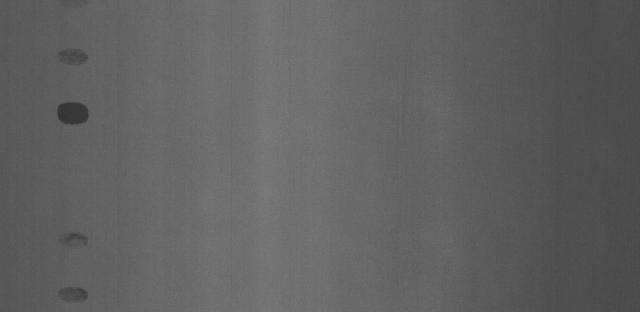oil_spot: (51, 100, 92, 129), (54, 226, 89, 253), (52, 283, 92, 304), (53, 47, 91, 66)
